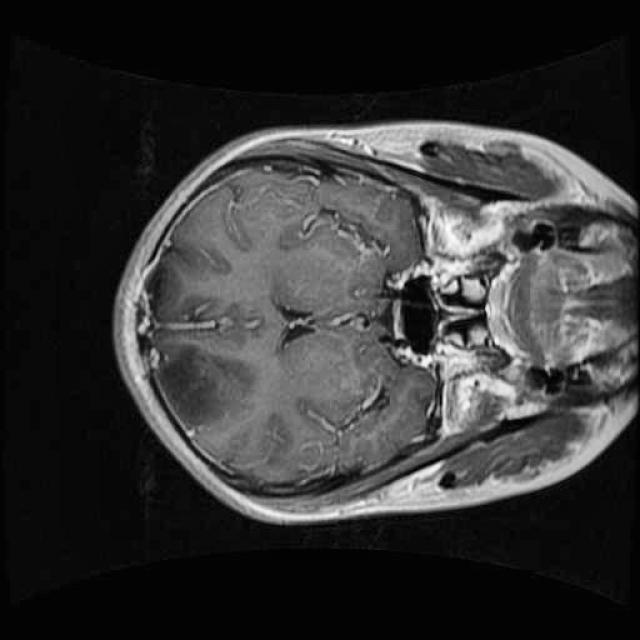Tumor: (132, 317, 270, 455)
